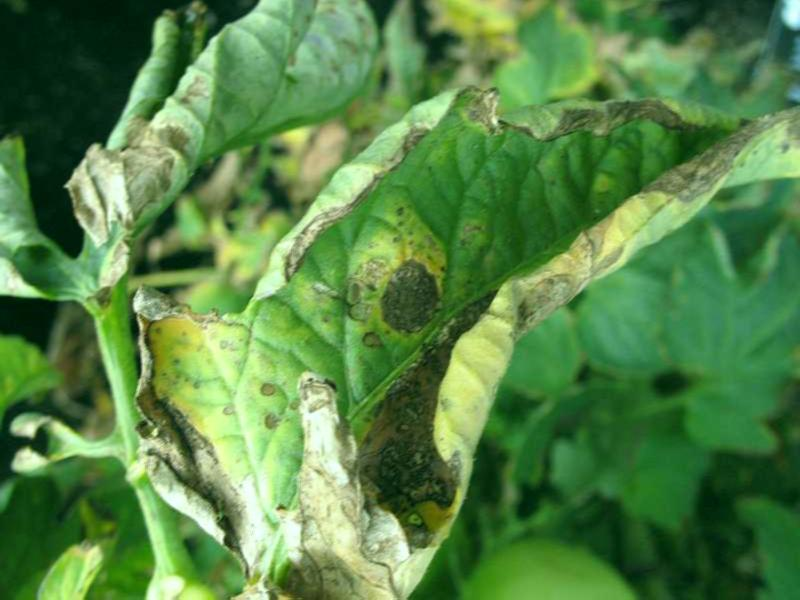Tomato Early blight leaf: (123, 104, 800, 594)
